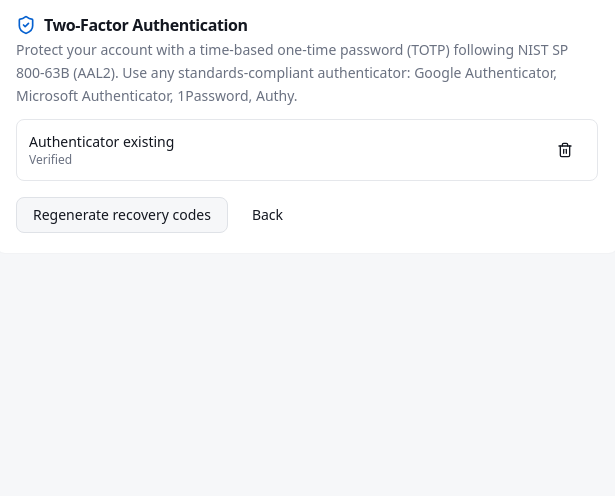
Test: MfaSetup › regenerate recovery codes invalidates the previous set when MFA already active
Step 1. Click the button "Regenerate recovery codes" → (122, 215), box [16,197,228,233]
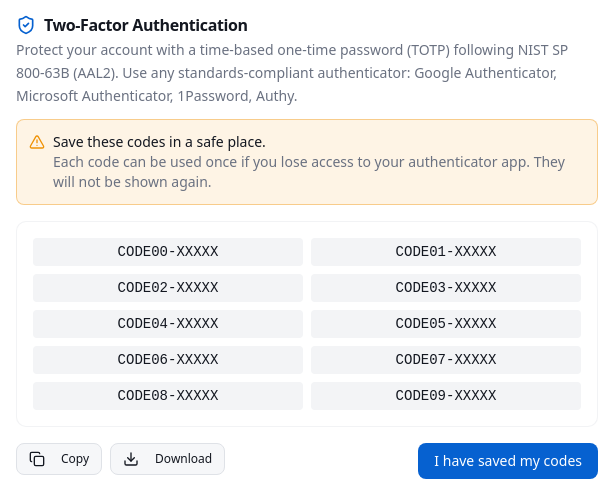
Now the text "Save these codes in a safe place." is shown, box [53,132,266,151]
